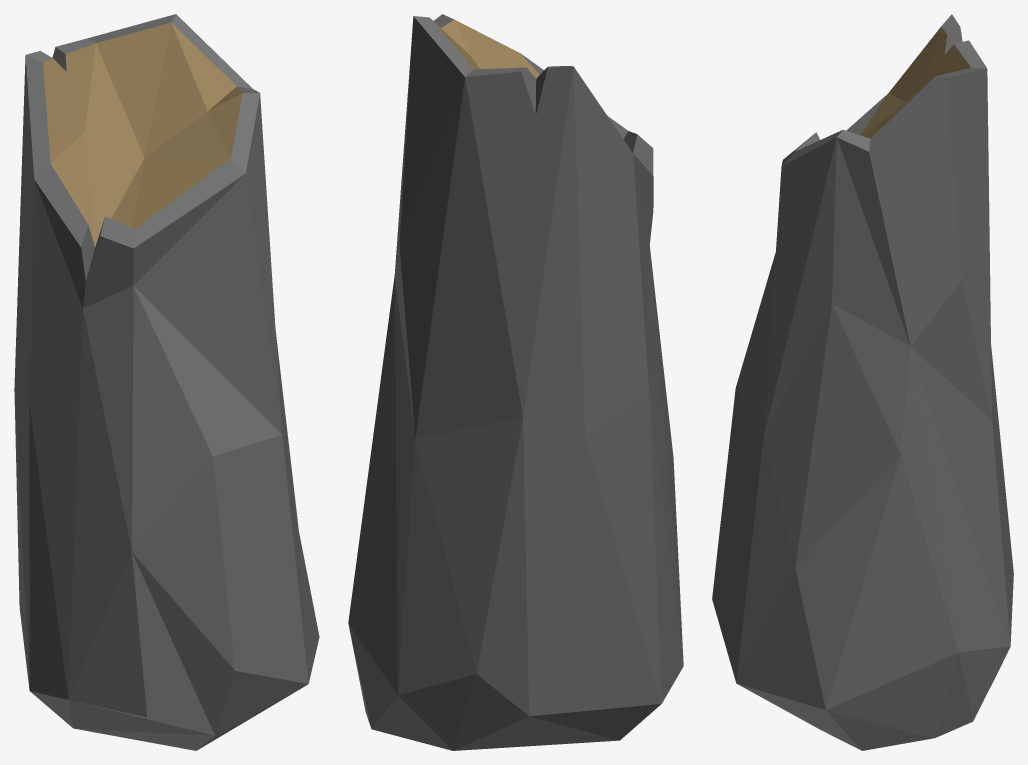
File: SM_Gen_Env_Stump_01.glb
3 views of the same model, side by side, from view 1: azimuth 30°, elevation 25°; view 2: azimuth 150°, elevation 25°; view 3: azimuth 270°, elevation 25° (orthographic). The views are drawn at different scales.
Visible parts, largest first — view 1: SM_Gen_Env_Stump_01; view 2: SM_Gen_Env_Stump_01; view 3: SM_Gen_Env_Stump_01.
Boxes of the visible parts, x1,y1,x2,y2 form: SM_Gen_Env_Stump_01: (14, 14, 319, 750); SM_Gen_Env_Stump_01: (348, 14, 683, 750); SM_Gen_Env_Stump_01: (712, 14, 1013, 750).
Size of the model in its own units: 0.5883 by 1.43 by 0.5802.
1 material, 1 textured.
